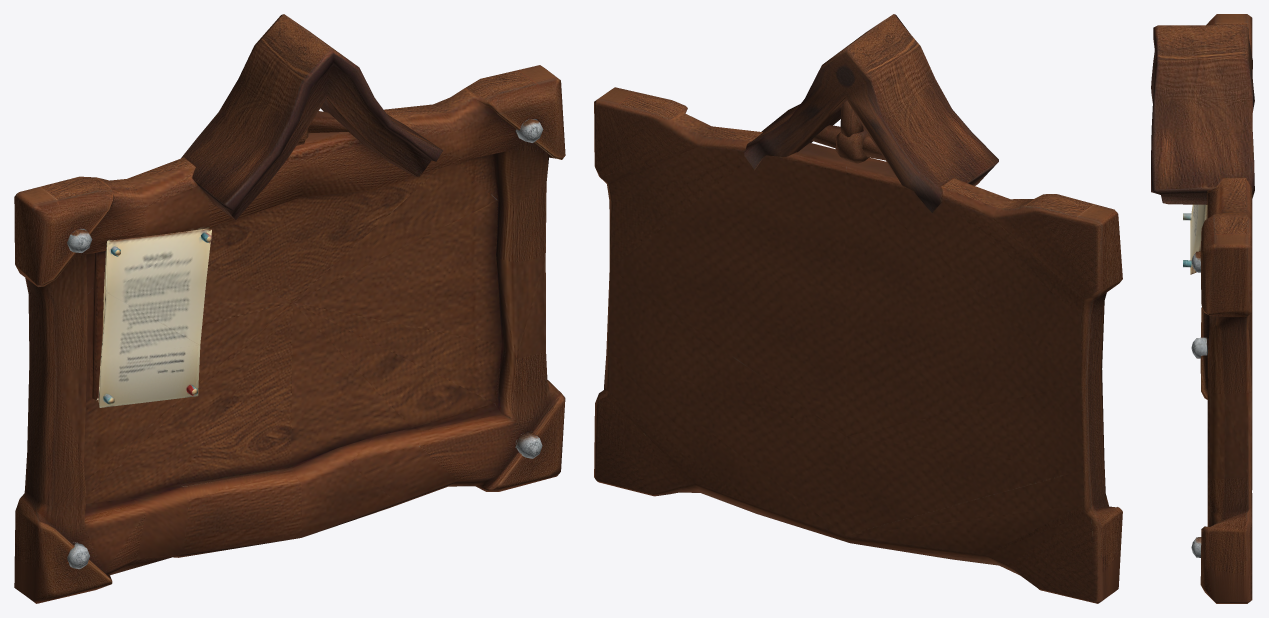
Rendered from notice_board.glb.
The picture shows the model from 3 angles, left to right: view 1: azimuth 30°, elevation 25°; view 2: azimuth 150°, elevation 25°; view 3: azimuth 270°, elevation 25°; orthographic projection. The views are drawn at different scales.
Size of the model in its own units: 0.9556 by 0.8901 by 0.1797.
1 material, 1 textured.
